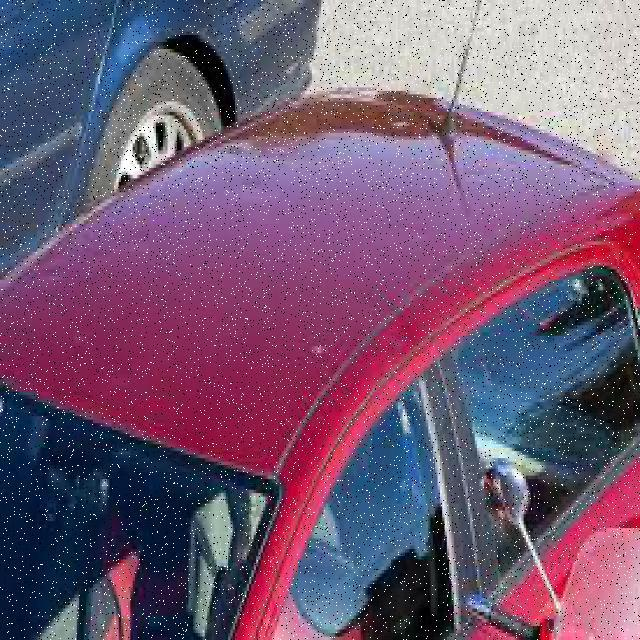roof-dent: (0, 132, 186, 447), (172, 123, 370, 410), (370, 105, 538, 280)
